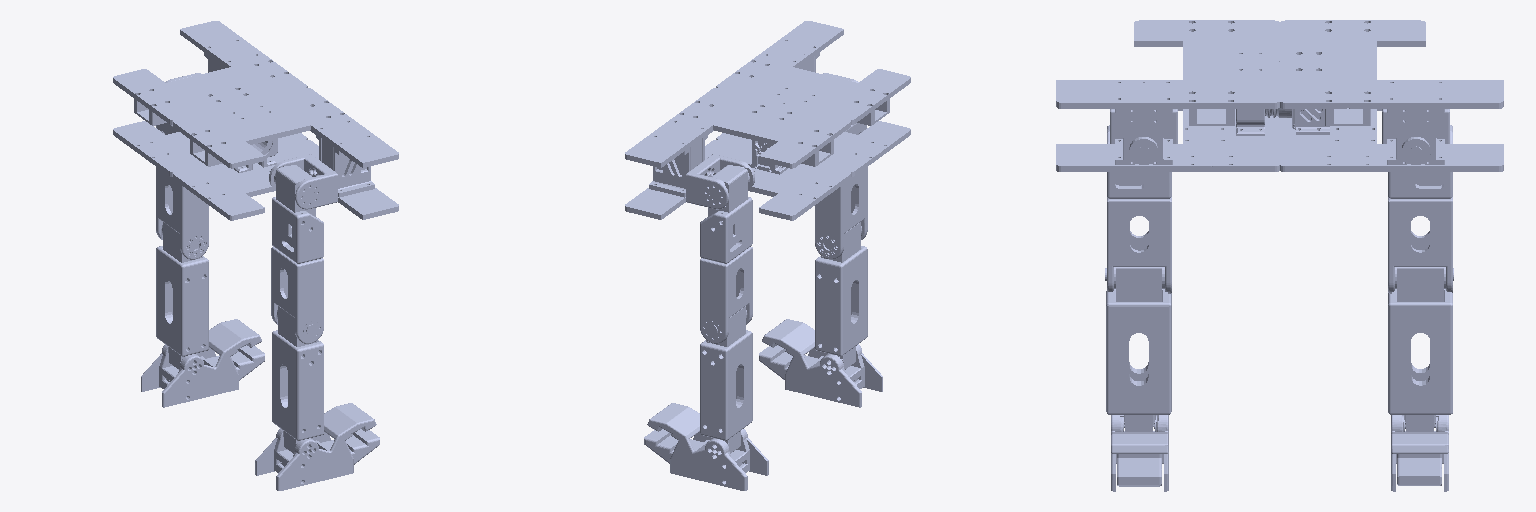
The robot description file, URDF, robot "Transformer.SLDASM":
<?xml version="1.0" encoding="utf-8"?>
<!-- This URDF was automatically created by SolidWorks to URDF Exporter! Originally created by [author] ([email redacted]) 
     Commit Version: 1.6.0-4-g7f85cfe  Build Version: 1.6.7995.38578
     For more information, please see http://wiki.ros.org/sw_urdf_exporter -->
<robot
  name="Transformer.SLDASM">
  <link
    name="Baselink">
    <inertial>
      <origin
        xyz="0.0228108970080744 -0.000561788917999517 0.0331105506812299"
        rpy="0 0 0" />
      <mass
        value="1.31960509138415" />
      <inertia
        ixx="0.00312181926824079"
        ixy="-5.03100609710685E-06"
        ixz="-1.29443545489663E-05"
        iyy="0.0038554317386189"
        iyz="-7.75159199175596E-06"
        izz="0.00662446922629405" />
    </inertial>
    <visual>
      <origin
        xyz="0 0 0"
        rpy="0 0 0" />
      <geometry>
        <mesh
          filename="../meshes/Baselink.STL" />
      </geometry>
      <material
        name="">
        <color
          rgba="0.792156862745098 0.819607843137255 0.933333333333333 1" />
      </material>
    </visual>
    <collision>
      <origin
        xyz="0 0 0"
        rpy="0 0 0" />
      <geometry>
        <mesh
          filename="../meshes/Baselink.STL" />
      </geometry>
    </collision>
  </link>
  <link
    name="Bubleft">
    <inertial>
      <origin
        xyz="-0.000772222528972046 -1.4898008240255E-08 0.0144402391383288"
        rpy="0 0 0" />
      <mass
        value="0.0541320948471737" />
      <inertia
        ixx="1.9153591360639E-05"
        ixy="1.05076891250516E-11"
        ixz="1.29770853899577E-06"
        iyy="4.63922160357353E-05"
        iyz="1.2606080458491E-11"
        izz="4.32236807688341E-05" />
    </inertial>
    <visual>
      <origin
        xyz="0 0 0"
        rpy="0 0 0" />
      <geometry>
        <mesh
          filename="../meshes/Bubleft.STL" />
      </geometry>
      <material
        name="">
        <color
          rgba="0.792156862745098 0.819607843137255 0.933333333333333 1" />
      </material>
    </visual>
    <collision>
      <origin
        xyz="0 0 0"
        rpy="0 0 0" />
      <geometry>
        <mesh
          filename="../meshes/Bubleft.STL" />
      </geometry>
    </collision>
  </link>
  <joint
    name="Bubleft"
    type="revolute">
    <origin
      xyz="0.04025 -0.14005 0.0159"
      rpy="1.5707963267949 0 -1.5707963267949" />
    <parent
      link="Baselink" />
    <child
      link="Bubleft" />
    <axis
      xyz="0 0 1" />
    <limit
      lower="-0.1243"
      upper="3.1382"
      effort="10.3"
      velocity="3.67" />
  </joint>
  <link
    name="Hipleft">
    <inertial>
      <origin
        xyz="-0.000270081557997293 -0.0684560993055164 0.0028626889211561"
        rpy="0 0 0" />
      <mass
        value="0.318234408091769" />
      <inertia
        ixx="0.000267811204266692"
        ixy="3.11914095953246E-06"
        ixz="4.88817409078695E-07"
        iyy="0.000174267837279053"
        iyz="-1.00379998284168E-05"
        izz="0.00017802683796978" />
    </inertial>
    <visual>
      <origin
        xyz="0 0 0"
        rpy="0 0 0" />
      <geometry>
        <mesh
          filename="../meshes/Hipleft.STL" />
      </geometry>
      <material
        name="">
        <color
          rgba="0.792156862745098 0.819607843137255 0.933333333333333 1" />
      </material>
    </visual>
    <collision>
      <origin
        xyz="0 0 0"
        rpy="0 0 0" />
      <geometry>
        <mesh
          filename="../meshes/Hipleft.STL" />
      </geometry>
    </collision>
  </link>
  <joint
    name="Hipleft"
    type="revolute">
    <origin
      xyz="0.000299999999999998 0 0.03995"
      rpy="0 1.5707963267949 0" />
    <parent
      link="Bubleft" />
    <child
      link="Hipleft" />
    <axis
      xyz="0 0 1" />
    <limit
      lower="-0.6351"
      upper="0.3710"
      effort="10.3"
      velocity="3.67" />
  </joint>
  <link
    name="Kneeleft">
    <inertial>
      <origin
        xyz="4.53232767438361E-05 -0.0743268502837562 0.000464653410863155"
        rpy="0 0 0" />
      <mass
        value="0.321584635989643" />
      <inertia
        ixx="0.000413517962210184"
        ixy="-1.1556352005471E-12"
        ixz="2.83786074294175E-12"
        iyy="0.000169644385414367"
        iyz="-3.45699427258965E-08"
        izz="0.000328712219864248" />
    </inertial>
    <visual>
      <origin
        xyz="0 0 0"
        rpy="0 0 0" />
      <geometry>
        <mesh
          filename="../meshes/Kneeleft.STL" />
      </geometry>
      <material
        name="">
        <color
          rgba="0.792156862745098 0.819607843137255 0.933333333333333 1" />
      </material>
    </visual>
    <collision>
      <origin
        xyz="0 0 0"
        rpy="0 0 0" />
      <geometry>
        <mesh
          filename="../meshes/Kneeleft.STL" />
      </geometry>
    </collision>
  </link>
  <joint
    name="Kneeleft"
    type="revolute">
    <origin
      xyz="9.99999999999751E-05 -0.1851 0.00419999999999984"
      rpy="0 0 0" />
    <parent
      link="Hipleft" />
    <child
      link="Kneeleft" />
    <axis
      xyz="0 0 1" />
    <limit
      lower="-1.5127"
      upper="1.4831"
      effort="10.3"
      velocity="3.67" />
  </joint>
  <link
    name="Footleft">
    <inertial>
      <origin
        xyz="0.0366739746986923 -0.0173790624296392 0.000213862523254674"
        rpy="0 0 0" />
      <mass
        value="0.213822723684556" />
      <inertia
        ixx="0.000122852397918318"
        ixy="-6.57031342432722E-05"
        ixz="7.51393483020317E-08"
        iyy="0.000270815082048137"
        iyz="4.99178931240558E-09"
        izz="0.000254522196916082" />
    </inertial>
    <visual>
      <origin
        xyz="0 0 0"
        rpy="0 0 0" />
      <geometry>
        <mesh
          filename="../meshes/Footleft.STL" />
      </geometry>
      <material
        name="">
        <color
          rgba="0.792156862745098 0.819607843137255 0.933333333333333 1" />
      </material>
    </visual>
    <collision>
      <origin
        xyz="0 0 0"
        rpy="0 0 0" />
      <geometry>
        <mesh
          filename="../meshes/Footleft.STL" />
      </geometry>
    </collision>
  </link>
  <joint
    name="Footleft"
    type="revolute">
    <origin
      xyz="-9.99999999999196E-05 -0.1709 -0.00055000000000005"
      rpy="0 0 0" />
    <parent
      link="Kneeleft" />
    <child
      link="Footleft" />
    <axis
      xyz="0 0 1" />
    <limit
      lower="-1.1381"
      upper="0.7027"
      effort="2.94"
      velocity="4.82" />
  </joint>
  <link
    name="Bubright">
    <inertial>
      <origin
        xyz="0.000772222528972022 1.48980082367856E-08 0.0144402391383288"
        rpy="0 0 0" />
      <mass
        value="0.0541320948471737" />
      <inertia
        ixx="1.91535913606391E-05"
        ixy="1.05076891164341E-11"
        ixz="-1.29770853899576E-06"
        iyy="4.63922160357354E-05"
        iyz="-1.26060804609872E-11"
        izz="4.32236807688341E-05" />
    </inertial>
    <visual>
      <origin
        xyz="0 0 0"
        rpy="0 0 0" />
      <geometry>
        <mesh
          filename="../meshes/Bubright.STL" />
      </geometry>
      <material
        name="">
        <color
          rgba="0.792156862745098 0.819607843137255 0.933333333333333 1" />
      </material>
    </visual>
    <collision>
      <origin
        xyz="0 0 0"
        rpy="0 0 0" />
      <geometry>
        <mesh
          filename="../meshes/Bubright.STL" />
      </geometry>
    </collision>
  </link>
  <joint
    name="Bubright"
    type="revolute">
    <origin
      xyz="0.0402500000000001 0.13995 0.0159"
      rpy="1.5707963267949 0 -1.5707963267949" />
    <parent
      link="Baselink" />
    <child
      link="Bubright" />
    <axis
      xyz="0 0 1" />
    <limit
      lower="-3.1382"
      upper="0.1243"
      effort="10.3"
      velocity="3.67" />
  </joint>
  <link
    name="Hipright">
    <inertial>
      <origin
        xyz="-0.000405092555900308 -0.0684560755966682 -0.00286270745992134"
        rpy="0 0 0" />
      <mass
        value="0.318234889909563" />
      <inertia
        ixx="0.000267811380487872"
        ixy="3.11898839144832E-06"
        ixz="-4.88860066637238E-07"
        iyy="0.000174268008727696"
        iyz="1.00382672886604E-05"
        izz="0.000178026829294935" />
    </inertial>
    <visual>
      <origin
        xyz="0 0 0"
        rpy="0 0 0" />
      <geometry>
        <mesh
          filename="../meshes/Hipright.STL" />
      </geometry>
      <material
        name="">
        <color
          rgba="0.792156862745098 0.819607843137255 0.933333333333333 1" />
      </material>
    </visual>
    <collision>
      <origin
        xyz="0 0 0"
        rpy="0 0 0" />
      <geometry>
        <mesh
          filename="../meshes/Hipright.STL" />
      </geometry>
    </collision>
  </link>
  <joint
    name="Hipright"
    type="revolute">
    <origin
      xyz="-0.000299999999999967 0 0.0399500000000008"
      rpy="0 1.5707963267949 0" />
    <parent
      link="Bubright" />
    <child
      link="Hipright" />
    <axis
      xyz="0 0 -1" />
    <limit
      lower="-0.3710"
      upper="0.6351"
      effort="10.3"
      velocity="3.67" />
  </joint>
  <link
    name="Kneeright">
    <inertial>
      <origin
        xyz="-4.53232767438499E-05 -0.0743268502837559 -0.00032896190698839"
        rpy="0 0 0" />
      <mass
        value="0.321584635989642" />
      <inertia
        ixx="0.000413517962210183"
        ixy="1.1556351269221E-12"
        ixz="2.83786072026751E-12"
        iyy="0.000169644385414367"
        iyz="3.45699427260068E-08"
        izz="0.000328712219864248" />
    </inertial>
    <visual>
      <origin
        xyz="0 0 0"
        rpy="0 0 0" />
      <geometry>
        <mesh
          filename="../meshes/Kneeright.STL" />
      </geometry>
      <material
        name="">
        <color
          rgba="0.792156862745098 0.819607843137255 0.933333333333333 1" />
      </material>
    </visual>
    <collision>
      <origin
        xyz="0 0 0"
        rpy="0 0 0" />
      <geometry>
        <mesh
          filename="../meshes/Kneeright.STL" />
      </geometry>
    </collision>
  </link>
  <joint
    name="Kneeright"
    type="revolute">
    <origin
      xyz="-9.99999999999196E-05 -0.1851 -0.00419999999999993"
      rpy="0 0 0" />
    <parent
      link="Hipright" />
    <child
      link="Kneeright" />
    <axis
      xyz="0 0 -1" />
    <limit
      lower="-1.4831"
      upper="1.5127"
      effort="10.3"
      velocity="3.67" />
  </joint>
  <link
    name="Footright">
    <inertial>
      <origin
        xyz="0.0366739750369883 -0.0172788985778793 0.000213862492401851"
        rpy="0 0 0" />
      <mass
        value="0.213822726115051" />
      <inertia
        ixx="0.000122852400084898"
        ixy="-6.57031359502892E-05"
        ixz="7.51393450167175E-08"
        iyy="0.000270815087500778"
        iyz="4.99163495568268E-09"
        izz="0.000254522201690246" />
    </inertial>
    <visual>
      <origin
        xyz="0 0 0"
        rpy="0 0 0" />
      <geometry>
        <mesh
          filename="../meshes/Footright.STL" />
      </geometry>
      <material
        name="">
        <color
          rgba="0.792156862745098 0.819607843137255 0.933333333333333 1" />
      </material>
    </visual>
    <collision>
      <origin
        xyz="0 0 0"
        rpy="0 0 0" />
      <geometry>
        <mesh
          filename="../meshes/Footright.STL" />
      </geometry>
    </collision>
  </link>
  <joint
    name="Footright"
    type="revolute">
    <origin
      xyz="9.99999999998918E-05 -0.1709 0.000449999999999839"
      rpy="0 0 0" />
    <parent
      link="Kneeright" />
    <child
      link="Footright" />
    <axis
      xyz="0 0 -1" />
    <limit
      lower="-0.7027"
      upper="1.1381"
      effort="2.94"
      velocity="4.82" />
  </joint>
</robot>

--- Facts derived from the render (not from the file) ---
The picture shows the robot from 3 angles, left to right: view 1: azimuth 30°, elevation 25°; view 2: azimuth 150°, elevation 25°; view 3: azimuth 270°, elevation 25°; orthographic projection.
Robot: Transformer.SLDASM — 9 links, 8 joints (8 revolute); root link Baselink; default pose: all joints at 0.
Visible links, largest first — view 1: Baselink, Hipleft, Footleft, Footright, Kneeright, Kneeleft, Hipright, Bubleft; view 2: Baselink, Hipright, Kneeright, Footleft, Footright, Kneeleft, Hipleft, Bubright; view 3: Baselink, Kneeleft, Kneeright, Hipleft, Hipright, Footleft, Footright, Bubleft, Bubright.
Link boxes in pixels (left/top/right/bottom): Baselink: left=113, top=21, right=398, bottom=220; Hipleft: left=271, top=165, right=323, bottom=343; Footleft: left=255, top=403, right=379, bottom=490; Footright: left=141, top=319, right=264, bottom=407; Kneeright: left=156, top=222, right=208, bottom=369; Kneeleft: left=272, top=306, right=323, bottom=453; Hipright: left=156, top=123, right=208, bottom=259; Bubleft: left=269, top=154, right=337, bottom=209; Baselink: left=625, top=21, right=910, bottom=220; Hipright: left=700, top=165, right=752, bottom=343; Kneeright: left=700, top=306, right=752, bottom=453; Footleft: left=759, top=319, right=882, bottom=407; Footright: left=644, top=403, right=768, bottom=490; Kneeleft: left=815, top=222, right=867, bottom=369; Hipleft: left=815, top=123, right=867, bottom=259; Bubright: left=686, top=154, right=754, bottom=209; Baselink: left=1056, top=20, right=1503, bottom=171; Kneeleft: left=1105, top=267, right=1171, bottom=431; Kneeright: left=1388, top=267, right=1453, bottom=431; Hipleft: left=1107, top=125, right=1171, bottom=293; Hipright: left=1388, top=125, right=1452, bottom=293; Footleft: left=1111, top=415, right=1168, bottom=491; Footright: left=1391, top=415, right=1448, bottom=491; Bubleft: left=1110, top=109, right=1177, bottom=143; Bubright: left=1382, top=109, right=1449, bottom=143.
Size in the robot's own frame: 0.2072 by 0.46 by 0.4572 metres.
9 mesh visuals loaded from 9 distinct referenced files (9 binary STL).